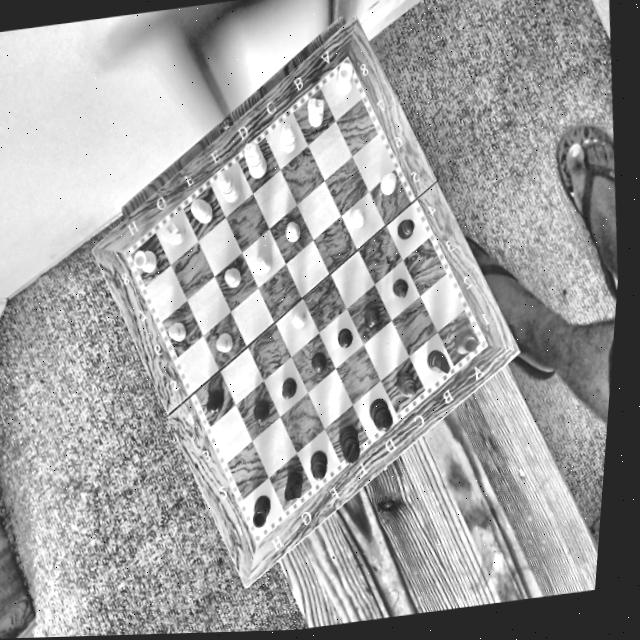black-bishop: (390, 366, 424, 404), (305, 444, 332, 486)
black-king: (333, 421, 368, 467)
black-knight: (278, 463, 308, 507), (424, 343, 453, 382)
black-pawn: (200, 385, 229, 418), (248, 391, 275, 426), (393, 214, 422, 243), (276, 372, 303, 402), (387, 273, 414, 301), (333, 322, 359, 351), (361, 303, 385, 330), (308, 349, 330, 376)
black-queen: (362, 392, 400, 436)
black-rook: (245, 491, 278, 531), (451, 327, 480, 362)
white-bishop: (186, 190, 217, 230), (275, 119, 304, 158)
white-king: (239, 137, 272, 184)
white-knight: (302, 91, 330, 134), (157, 217, 190, 249)
white-pawn: (373, 169, 403, 202), (211, 327, 238, 357), (165, 317, 193, 344), (281, 217, 305, 246), (346, 203, 370, 232), (220, 264, 246, 290), (254, 250, 276, 277)
white-queen: (212, 164, 246, 209)
white-rook: (329, 58, 359, 99), (129, 244, 162, 276)
